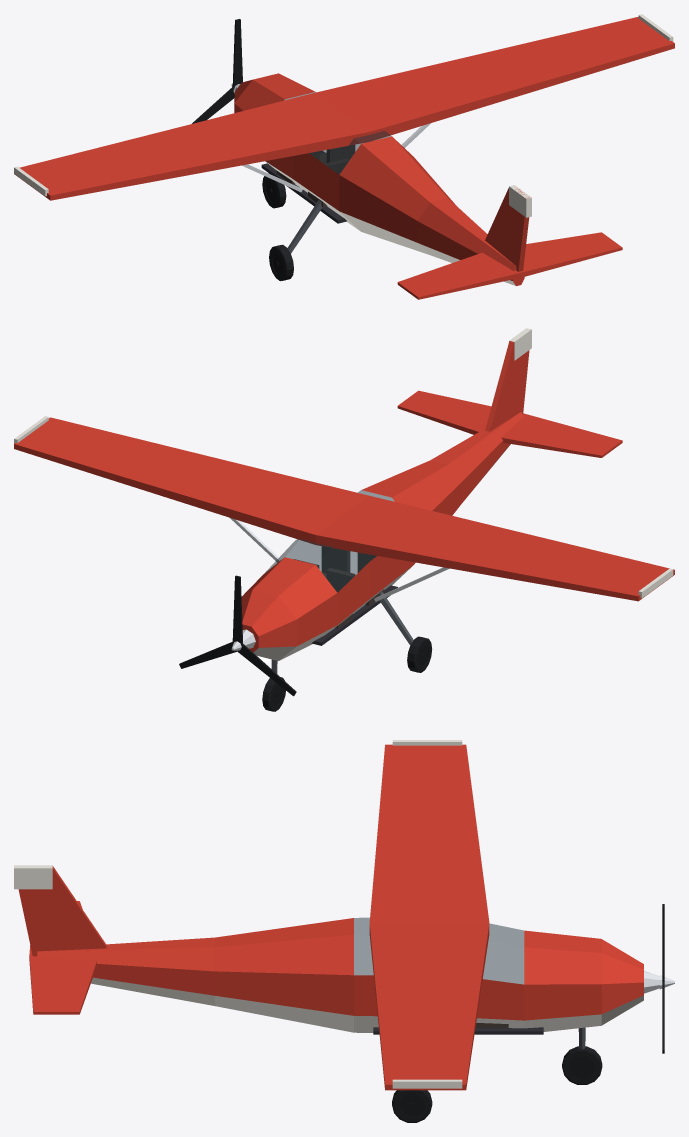
3 renders of one model, top to bottom at view 1: azimuth 30°, elevation 25°; view 2: azimuth 150°, elevation 25°; view 3: azimuth 270°, elevation 25°, orthographic. The views are drawn at different scales.
Visible parts, largest first — view 1: plane, plane_prop, plane_wheel_rl, plane_wheel_f; view 2: plane, plane_prop, plane_wheel_rl, plane_wheel_f; view 3: plane, plane_wheel_f, plane_wheel_rr, plane_prop.
Part boxes in pixels (bbox=[...]): plane: bbox=[14, 14, 674, 299]; plane_prop: bbox=[192, 19, 242, 123]; plane_wheel_rl: bbox=[269, 244, 293, 281]; plane_wheel_f: bbox=[262, 173, 286, 208]; plane: bbox=[14, 328, 674, 673]; plane_prop: bbox=[179, 575, 296, 696]; plane_wheel_rl: bbox=[407, 636, 432, 672]; plane_wheel_f: bbox=[262, 677, 285, 711]; plane: bbox=[14, 740, 659, 1090]; plane_wheel_f: bbox=[562, 1046, 602, 1084]; plane_wheel_rr: bbox=[392, 1090, 432, 1122]; plane_prop: bbox=[659, 904, 674, 1053].
Bounding box in the file's own units: 10.46 × 3.09 × 8.55.
